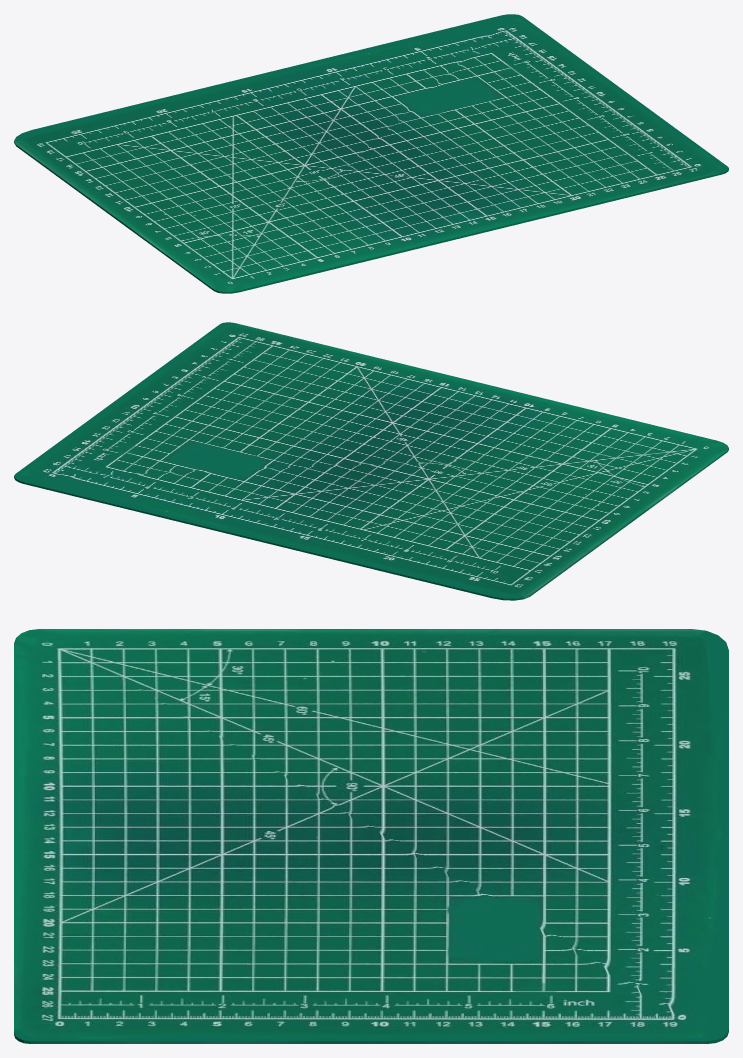
3 renders of one model, top to bottom at view 1: azimuth 30°, elevation 25°; view 2: azimuth 150°, elevation 25°; view 3: azimuth 270°, elevation 25°, orthographic. The views are drawn at different scales.
Visible parts, largest first — view 1: Plane; view 2: Plane; view 3: Plane.
Part boxes in pixels (x1,y1,x2,y2): Plane: (14,14,728,293); Plane: (14,322,728,600); Plane: (14,629,728,1043).
Size of the model in its own units: 30 by 0.1 by 22.
Materials: 1 (1 with a texture image).
